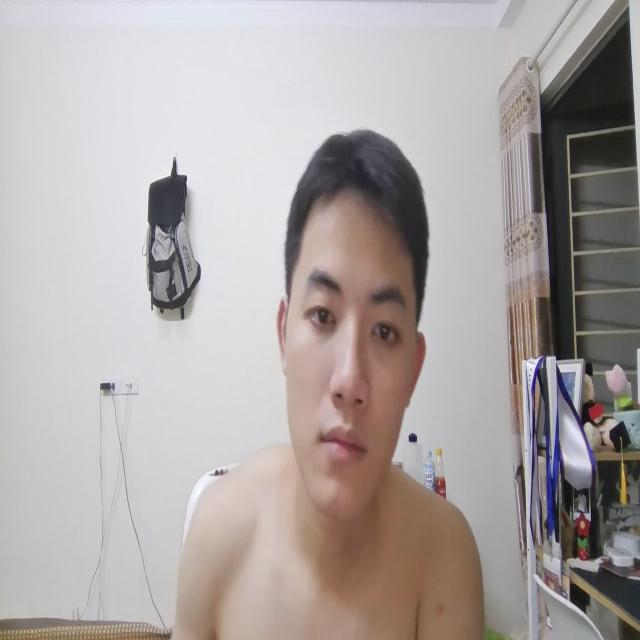student: (174, 126, 484, 640)
